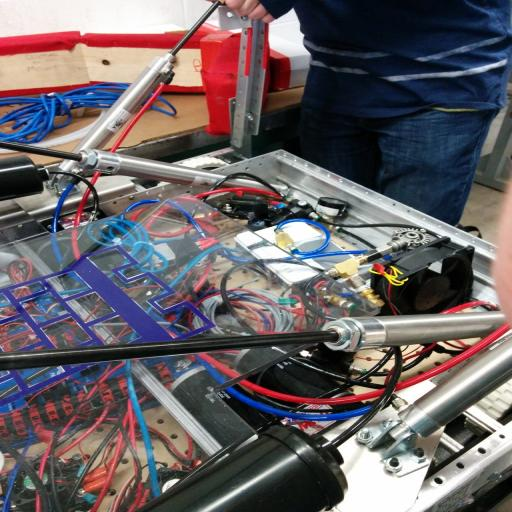robot: (6, 9, 511, 503)
